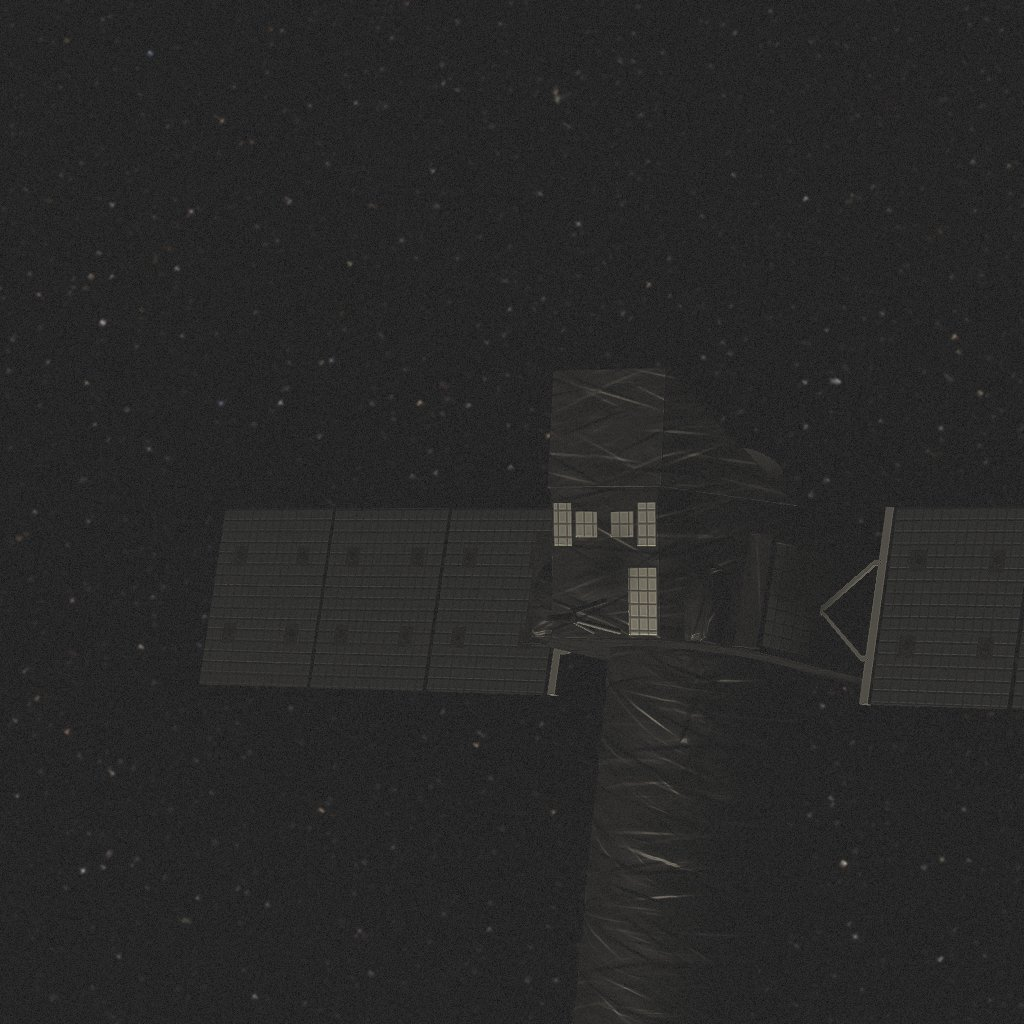xmm_newton: (199, 367, 1024, 1024)
